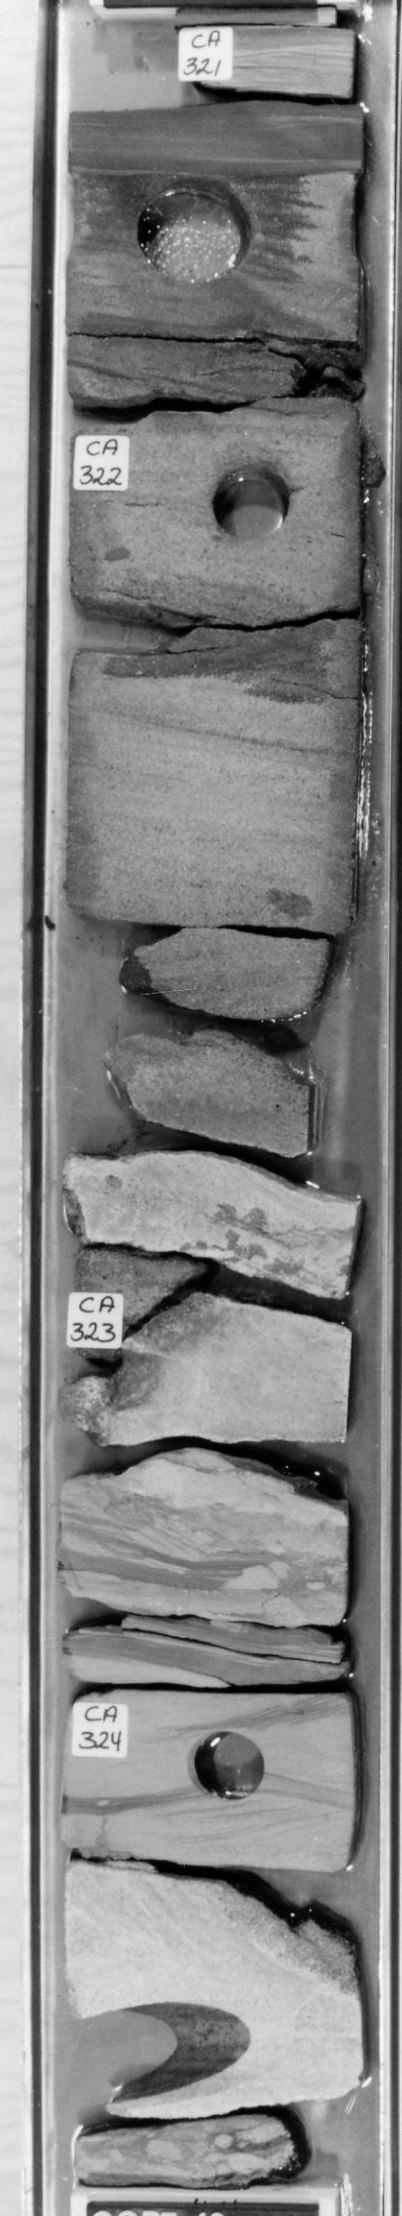hplug: (200, 448, 297, 548), (185, 1723, 275, 1808), (76, 1344, 127, 1385)
scal: (76, 1996, 260, 2113), (129, 168, 266, 293)
vplug: (120, 7, 202, 124)
